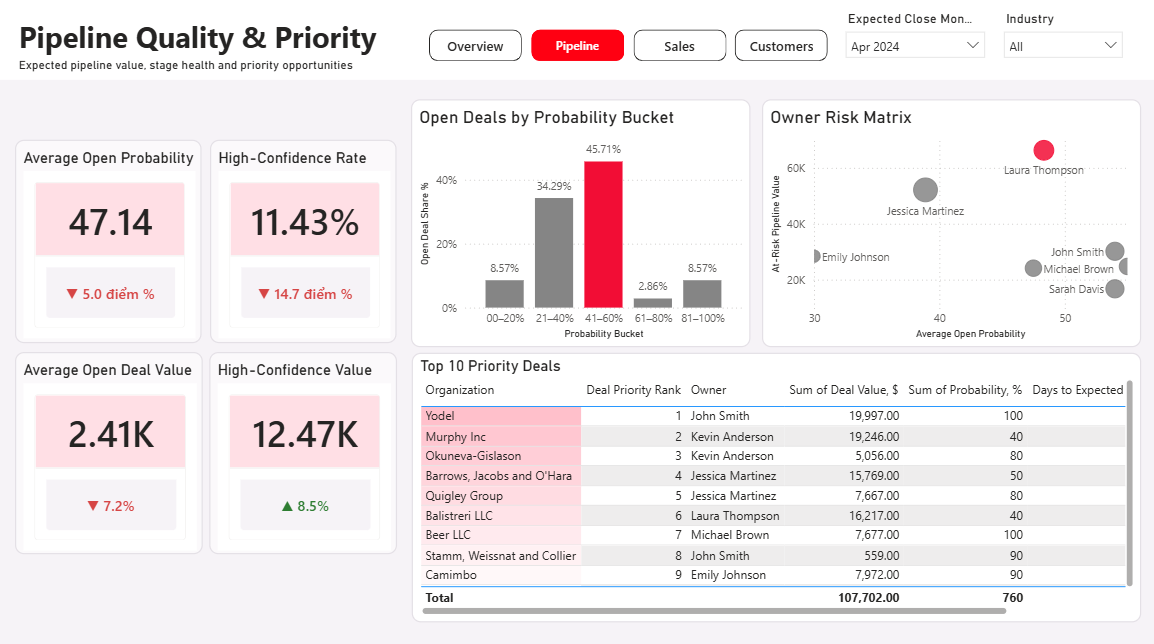

This screenshot's page, from the dashboard's own definition file:
{"tool":"powerbi","page":{"name":"Pipeline","canvas":[1280,720],"ordinal":1},"visuals":[{"type":"textbox","box":[0,0,1280,90],"z":0},{"type":"textbox","title":"CRM & Sales Pipeline Overview","box":[16,16,485.7,73.1],"z":1000},{"type":"cardVisual","title":"Average Open Probability","fields":{"Data":["Fact_CRM_Pipeline.Average Open Probability"]},"box":[16.8,156.6,206.9,224.7],"z":1000,"group":"g2"},{"type":"cardVisual","title":"Average Open Deal Value","fields":{"Data":["Fact_CRM_Pipeline.Average Open Deal Size"]},"box":[16.8,392.4,208,224.4],"z":1000,"group":"g3"},{"type":"pageNavigator","box":[475.4,35,444.3,35.7],"z":2000},{"type":"slicer","title":"Expected Close Month","fields":{"Values":["DimDate.Year Month"]},"box":[931,9.1,164.6,68.6],"z":3000},{"type":"slicer","title":"Expected Close Month","fields":{"Values":["DimIndustry.Industry"]},"box":[1106.3,9.1,141.7,68.6],"z":4000},{"type":"clusteredColumnChart","title":"Open Deals by Probability Bucket","fields":{"Category":["Fact_CRM_Pipeline.Probability Bucket"],"Y":["Fact_CRM_Pipeline.Open Deal Share %"]},"box":[455.7,112.2,375.9,274.5],"z":5000},{"type":"group","id":"g1","title":"Group 2","box":[16.8,156.6,422.7,459.8],"z":6000},{"type":"group","id":"g2","title":"Group 1","box":[16.8,156.6,423,224.7],"z":6000,"group":"g1"},{"type":"scatterChart","title":"Owner Risk Matrix","fields":{"Series":["DimOwner.Owner"],"Size":["Fact_CRM_Pipeline.Open Opportunity Count"],"X":["Fact_CRM_Pipeline.Average Open Probability"],"Y":["Fact_CRM_Pipeline.At-Risk Pipeline Value"]},"box":[843.7,112.2,420.5,274.5],"z":7000},{"type":"group","id":"g3","title":"Group 1","box":[16.8,392.1,423.2,224.7],"z":7000,"group":"g1"},{"type":"tableEx","title":"Top 10 Priority Deals","fields":{"Values":["Fact_CRM_Pipeline.Organization","Fact_CRM_Pipeline.Deal Priority Rank","DimOwner.Owner","Sum(Fact_CRM_Pipeline.Deal Value, $)","Sum(Fact_CRM_Pipeline.Probability, %)","Fact_CRM_Pipeline.Days to Expected Close","Fact_CRM_Pipeline.Deal Priority Score"]},"box":[470.7,392,808.6,298.8],"z":8000},{"type":"cardVisual","title":"High-Confidence Rate","fields":{"Data":["Fact_CRM_Pipeline.High-Confidence Deal Rate"]},"box":[232.9,156.6,206.9,224.7],"z":9000,"group":"g2"},{"type":"cardVisual","title":"High-Confidence Value","fields":{"Data":["Fact_CRM_Pipeline.High-Confidence Pipeline Value"]},"box":[232.1,392.1,208,224.4],"z":9000,"group":"g3"}]}

Visuals, with their boxes in screenshot pixels (x1, y1, x2, y2), scaled from the page's 1280x720 canvas onto the 1154x644 screenshot:
textbox: locate(0, 0, 1153, 80)
"CRM & Sales Pipeline Overview" textbox: locate(14, 14, 452, 80)
"Average Open Probability" cardVisual: locate(15, 140, 202, 341)
"Average Open Deal Value" cardVisual: locate(15, 351, 203, 552)
pageNavigator: locate(429, 31, 829, 63)
"Expected Close Month" slicer: locate(839, 8, 988, 69)
"Expected Close Month" slicer: locate(997, 8, 1125, 69)
"Open Deals by Probability Bucket" clusteredColumnChart: locate(411, 100, 750, 346)
"Group 2" group: locate(15, 140, 396, 551)
"Group 1" group: locate(15, 140, 397, 341)
"Owner Risk Matrix" scatterChart: locate(761, 100, 1140, 346)
"Group 1" group: locate(15, 351, 397, 552)
"Top 10 Priority Deals" tableEx: locate(424, 351, 1153, 618)
"High-Confidence Rate" cardVisual: locate(210, 140, 397, 341)
"High-Confidence Value" cardVisual: locate(209, 351, 397, 551)
